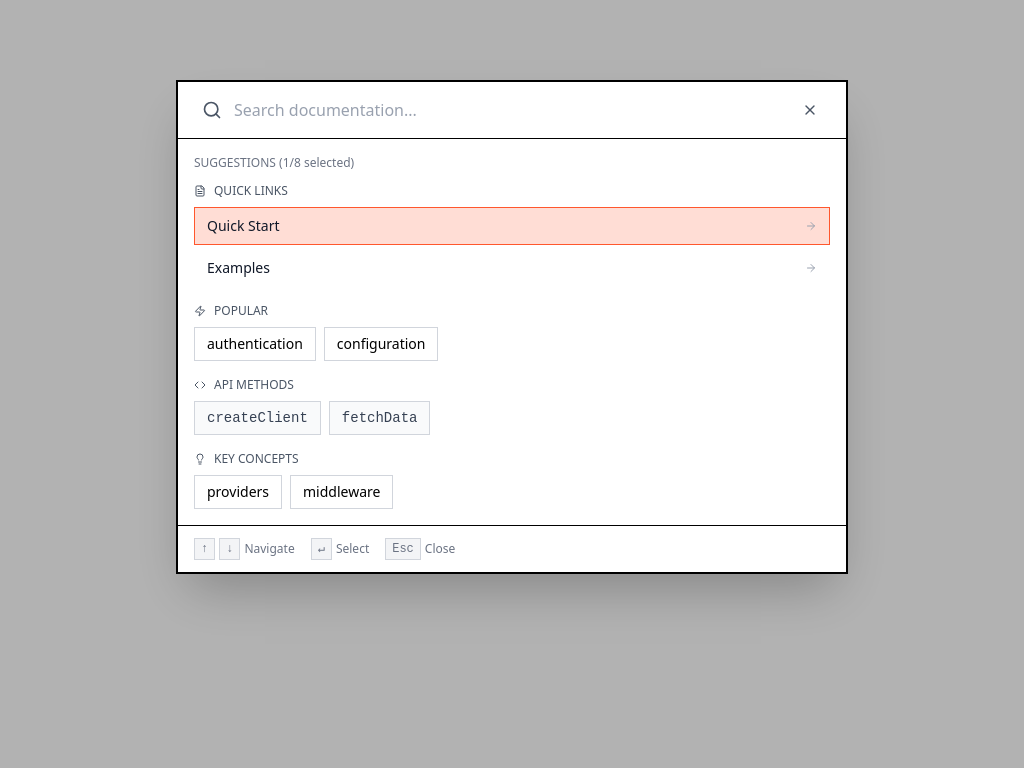
Test: SearchModal › Search Functionality › should show 'No results found' for queries with no matches
The image size is (1024, 768).
In the field with placeholder "Search documentation...": (510, 110) [234,98,786,122], type "xyz123nonexistent"
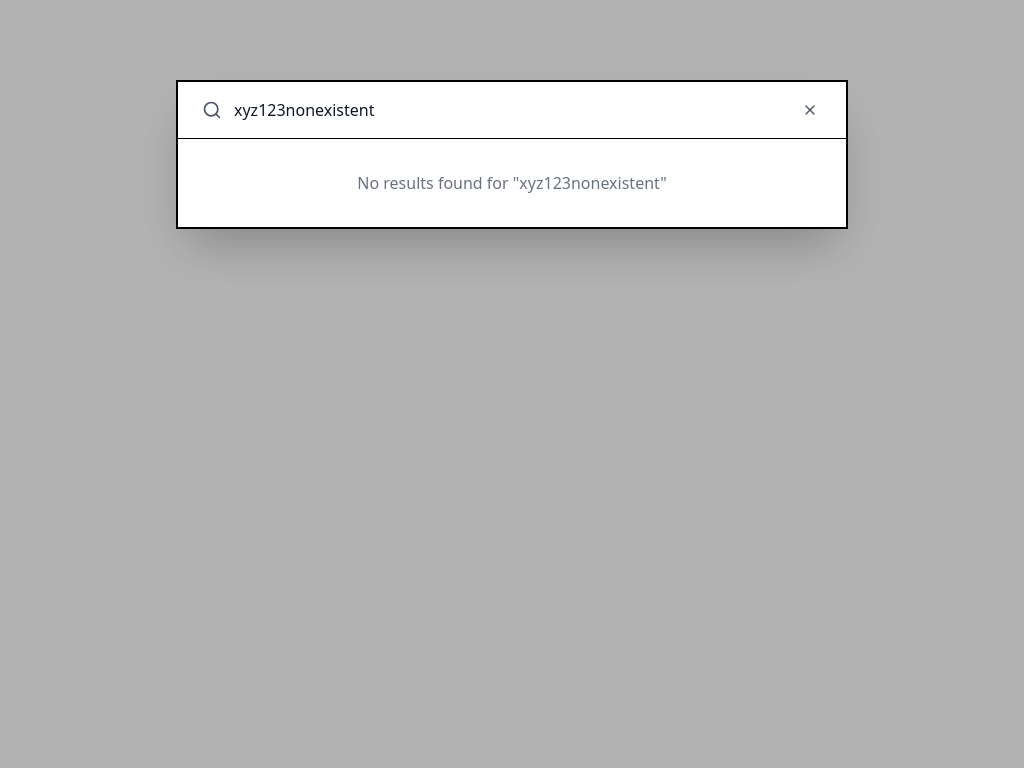
Now the text "No results found for \"xyz123nonexistent\"" is shown, box [357,172,667,194]
